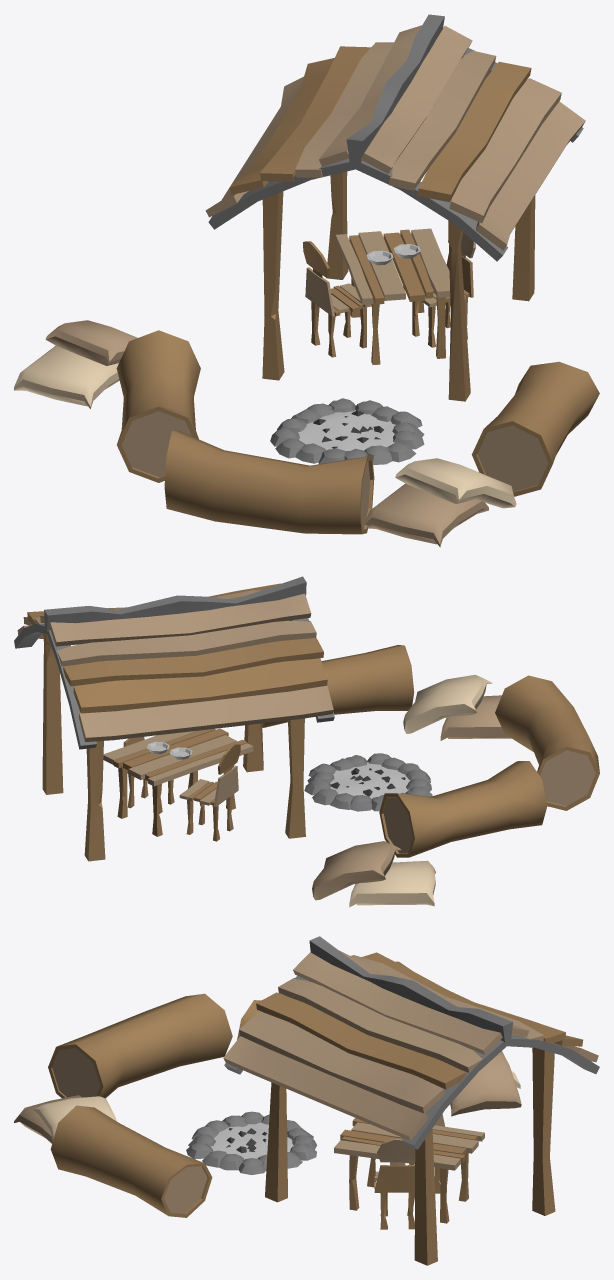
Rendered from labourCamp.fbx.
3 views of the same model, one above another, from view 1: azimuth 30°, elevation 25°; view 2: azimuth 150°, elevation 25°; view 3: azimuth 270°, elevation 25° (orthographic). The views are drawn at different scales.
Parts seen in each view (by area): view 1: LabourCamp; view 2: LabourCamp; view 3: LabourCamp.
Part boxes in pixels (box(x1,y1,x2,y2)): LabourCamp: box(14, 14, 599, 547); LabourCamp: box(14, 576, 599, 907); LabourCamp: box(14, 936, 599, 1265).
Bounding box in the file's own units: 326 × 149 × 345.
